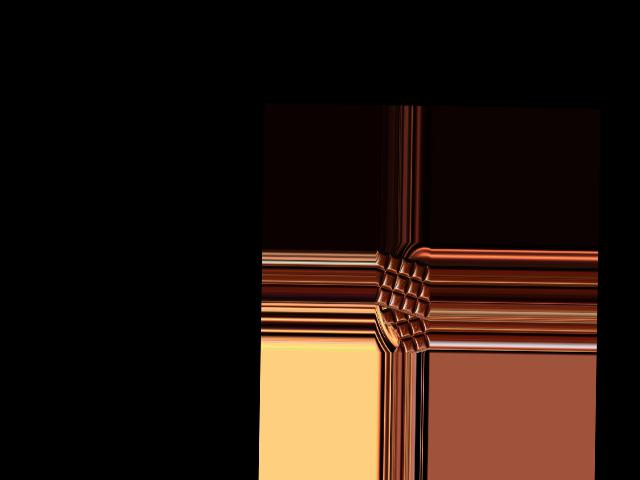chocolate: (376, 248, 432, 321)
